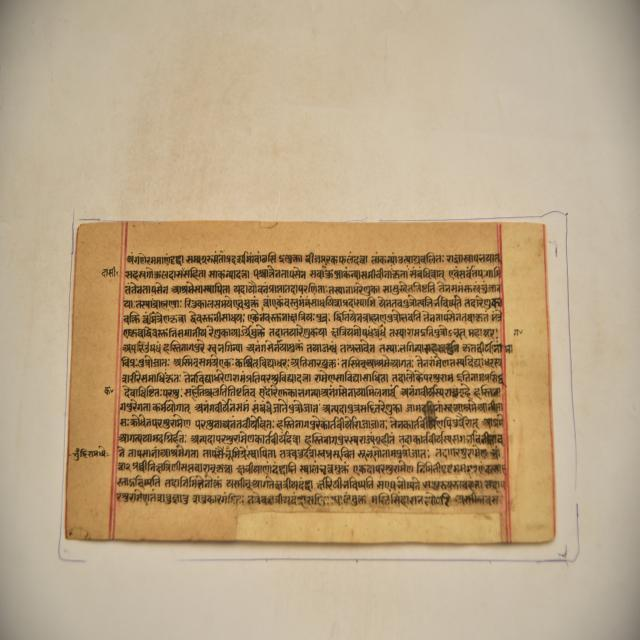text_paragraph: (63, 218, 557, 545)
